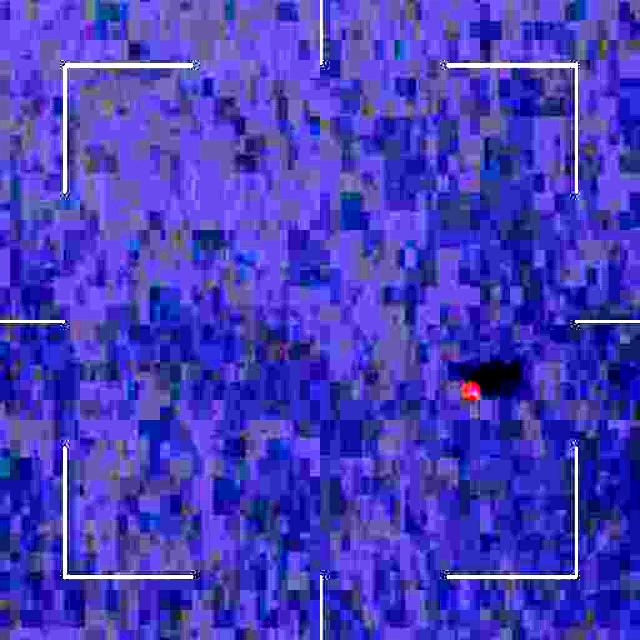bird: (458, 368, 485, 410)
